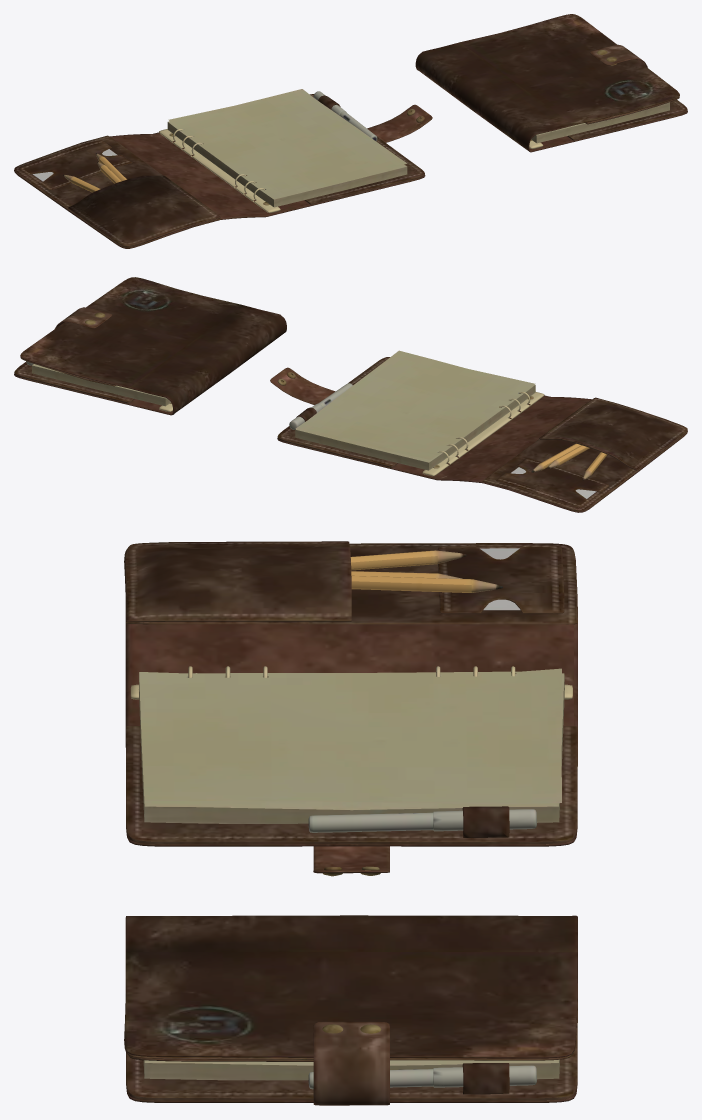
The model's file is binder_notebook.glb.
3 renders of one model, top to bottom at view 1: azimuth 30°, elevation 25°; view 2: azimuth 150°, elevation 25°; view 3: azimuth 270°, elevation 25°, orthographic. The views are drawn at different scales.
Parts seen in each view (by area): view 1: binder_notebook; view 2: binder_notebook; view 3: binder_notebook.
Boxes of the visible parts, x1,y1,x2,y2 form: binder_notebook: [14, 14, 687, 248]; binder_notebook: [14, 277, 687, 512]; binder_notebook: [124, 541, 577, 1105].
Bounding box in the file's own units: 0.584 × 0.0253 × 0.2.
1 material, 1 textured.
